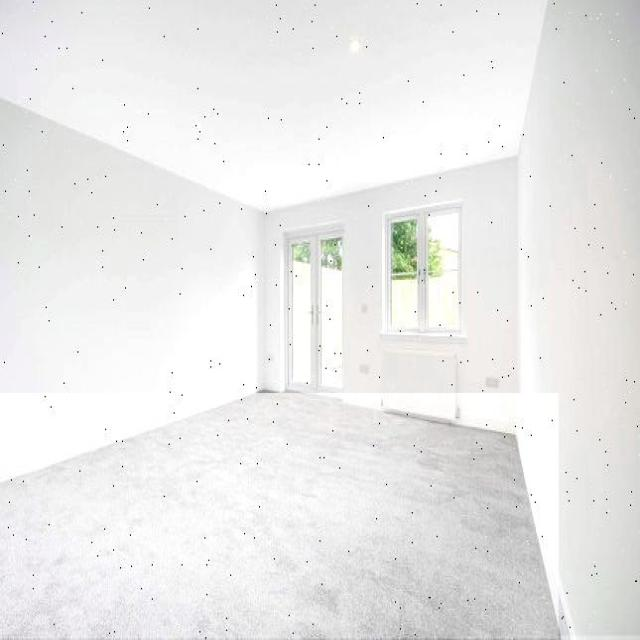Wall: (0, 2, 640, 636), (0, 393, 559, 639), (0, 1, 546, 211)
